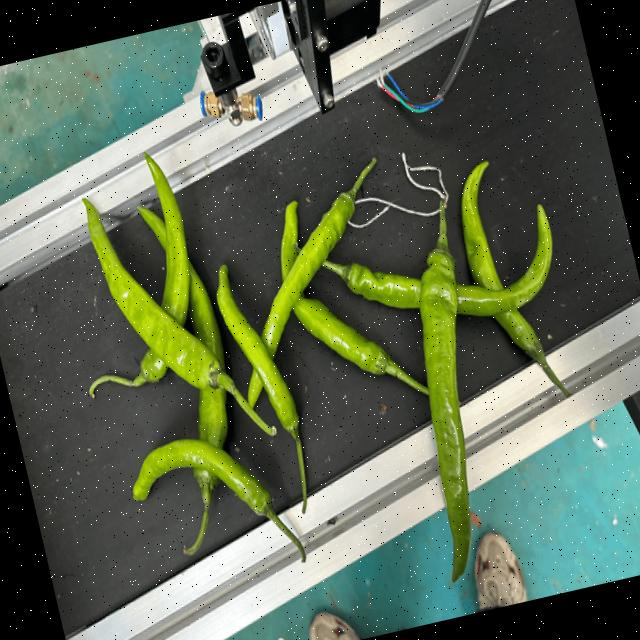chili: (132, 203, 230, 494), (79, 193, 224, 389), (340, 198, 555, 317), (246, 191, 355, 412), (279, 198, 392, 374), (419, 247, 473, 588), (458, 157, 545, 365), (215, 259, 302, 440), (138, 148, 191, 384), (129, 436, 274, 518)
